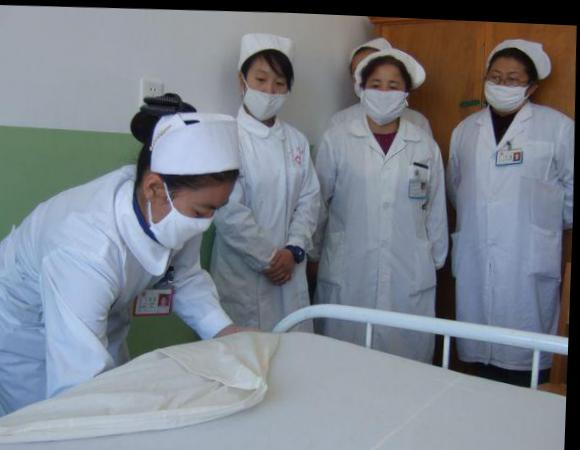OK: (147, 180, 227, 250), (361, 72, 407, 121), (484, 61, 529, 109)
WRONG: (240, 59, 292, 118)
